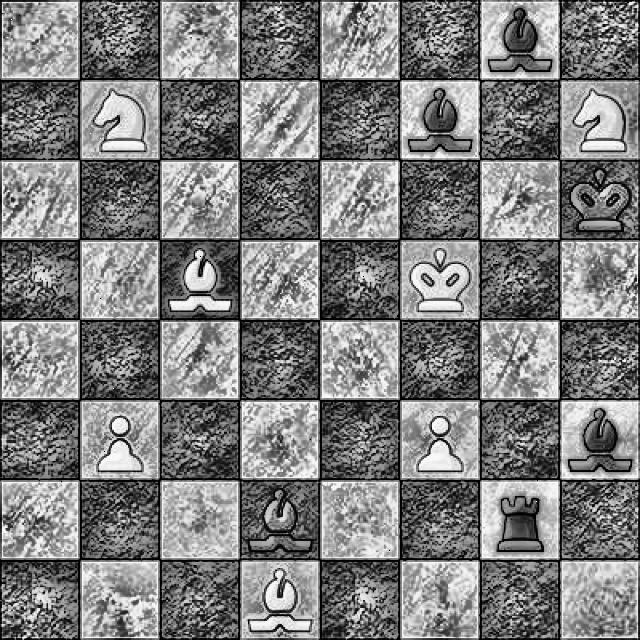black bishop: (401, 79, 476, 163), (564, 398, 637, 481), (486, 2, 556, 81), (246, 484, 314, 559)
black king: (564, 163, 638, 236)
black rook: (488, 485, 552, 558)
white bishop: (244, 561, 316, 640), (165, 244, 238, 319)
white king: (403, 244, 475, 312)
white pawn: (404, 403, 478, 478), (90, 406, 150, 480)
whiteknight: (84, 84, 155, 160), (570, 84, 632, 154)
